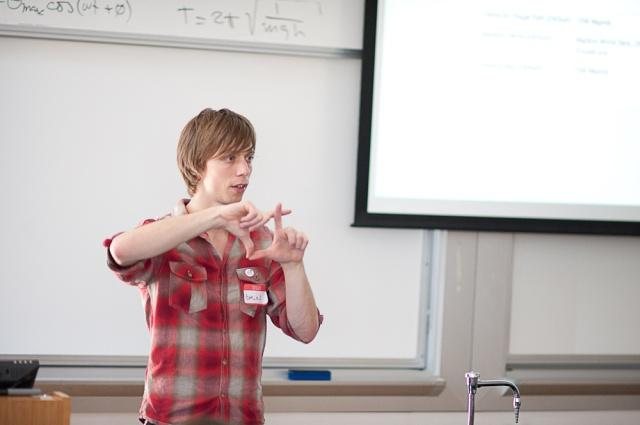Whiteboard: (0, 30, 429, 369)
